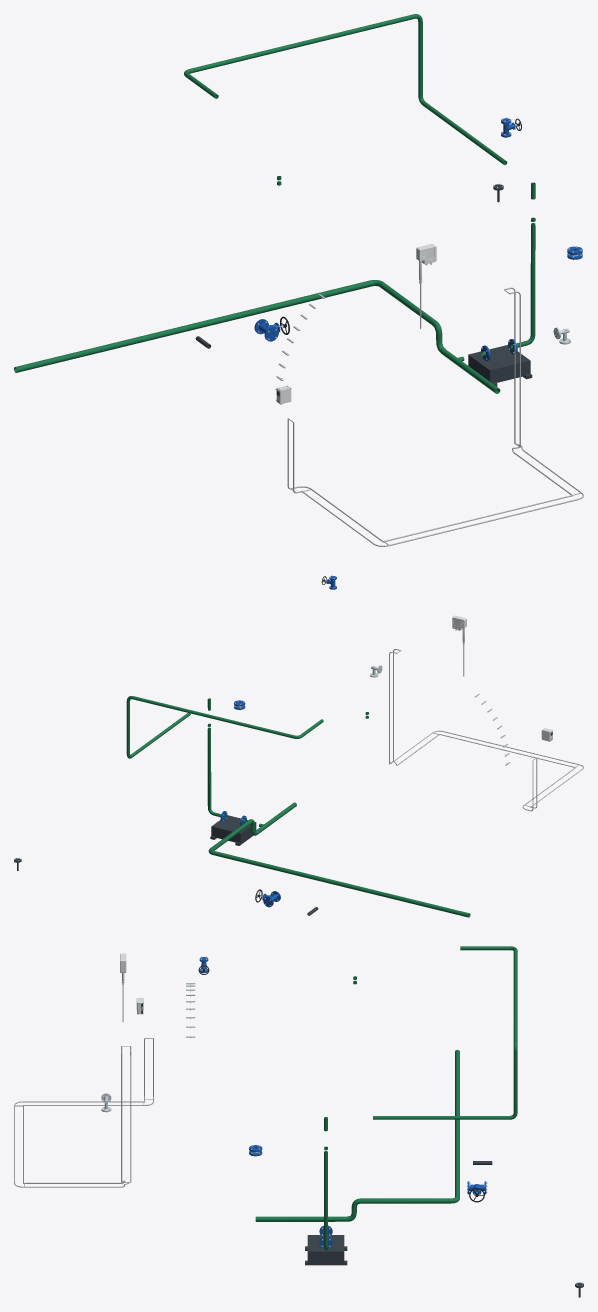
3 views of the same model, one above another, from view 1: azimuth 30°, elevation 25°; view 2: azimuth 150°, elevation 25°; view 3: azimuth 270°, elevation 25° (orthographic). The views are drawn at different scales.
Visible parts, largest first — view 1: suction_common / green, cables / zinc, to_direct / green, pump_branch_2 / dark, pump_branch_2 / green; view 2: suction_common / green, to_direct / green, cables / zinc, pump_branch_2 / dark, pump_branch_2 / green; view 3: suction_common / green, cables / zinc, to_direct / green, pump_branch_2 / dark, pump_branch_2 / green.
Boxes of the visible parts, x1=… form: suction_common / green: x1=14, y1=280, x2=500, y2=393; cables / zinc: x1=287, y1=287, x2=583, y2=546; to_direct / green: x1=184, y1=14, x2=507, y2=165; pump_branch_2 / dark: x1=468, y1=345, x2=532, y2=386; pump_branch_2 / green: x1=458, y1=182, x2=535, y2=361; suction_common / green: x1=208, y1=802, x2=470, y2=917; to_direct / green: x1=126, y1=696, x2=313, y2=758; cables / zinc: x1=389, y1=649, x2=583, y2=811; pump_branch_2 / dark: x1=210, y1=815, x2=256, y2=845; pump_branch_2 / green: x1=207, y1=698, x2=263, y2=826; suction_common / green: x1=255, y1=1050, x2=459, y2=1221; cables / zinc: x1=14, y1=1038, x2=153, y2=1187; to_direct / green: x1=373, y1=946, x2=517, y2=1119; pump_branch_2 / dark: x1=305, y1=1235, x2=347, y2=1265; pump_branch_2 / green: x1=324, y1=1117, x2=327, y2=1250.
Bounding box in the file's own units: 5.8 × 3.2 × 6.07.
